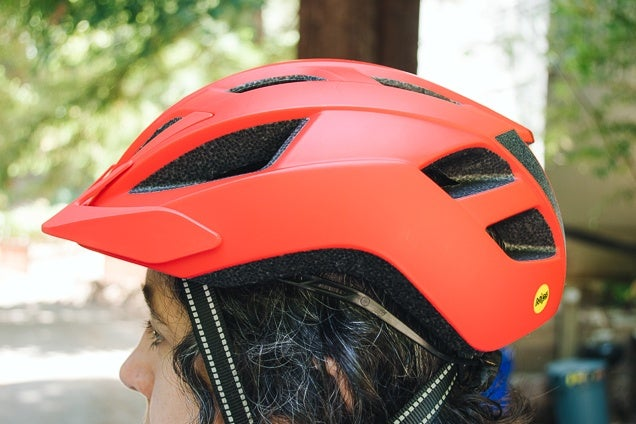helmet: (41, 58, 567, 424)
